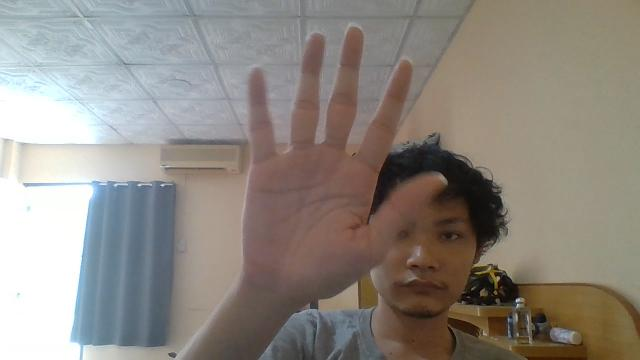Stop: (238, 22, 414, 306)
